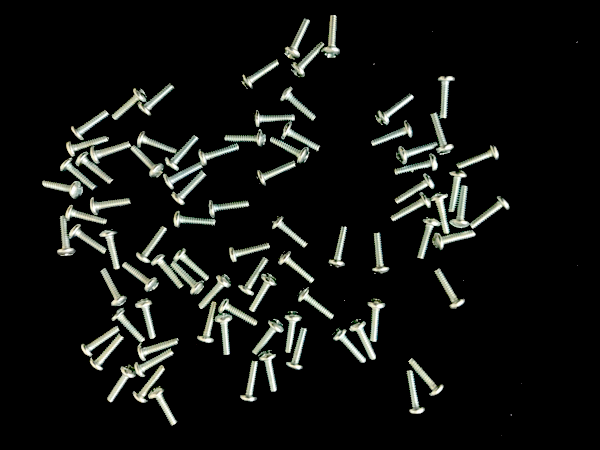shortscrew: (433, 267, 466, 311), (469, 195, 511, 229), (408, 358, 444, 397), (59, 157, 99, 191), (375, 93, 415, 127), (296, 287, 337, 320), (331, 326, 366, 364), (90, 334, 125, 372), (138, 82, 176, 117), (277, 250, 316, 284), (151, 251, 185, 290), (279, 87, 318, 121), (80, 325, 121, 357), (171, 170, 207, 206), (198, 273, 233, 310), (131, 366, 165, 404), (76, 151, 115, 184), (240, 60, 280, 92), (238, 255, 269, 296), (395, 174, 437, 204), (248, 272, 278, 314), (291, 42, 326, 78), (173, 247, 210, 281), (270, 215, 308, 248), (252, 318, 285, 356), (70, 109, 110, 140), (283, 17, 311, 61), (110, 307, 145, 342), (165, 135, 200, 170), (171, 261, 205, 297), (111, 87, 147, 121), (148, 385, 177, 427), (349, 318, 377, 361), (281, 122, 321, 152), (455, 143, 501, 169), (371, 120, 414, 147), (392, 193, 432, 222), (270, 136, 310, 165), (131, 145, 165, 179), (106, 365, 136, 403), (69, 224, 107, 254), (134, 350, 174, 378), (218, 298, 258, 326), (256, 160, 297, 187), (100, 268, 128, 307), (123, 263, 159, 293), (429, 112, 454, 155), (395, 140, 438, 165), (199, 142, 241, 167), (165, 163, 202, 191), (417, 217, 441, 260), (285, 327, 308, 371), (396, 153, 439, 176), (228, 241, 271, 264), (134, 298, 157, 340), (91, 142, 131, 166), (432, 230, 477, 251), (66, 137, 111, 158), (99, 229, 122, 270), (137, 131, 178, 154), (137, 339, 179, 361), (65, 205, 108, 226), (406, 370, 426, 415), (436, 74, 456, 119), (42, 179, 84, 200), (367, 298, 387, 342), (258, 349, 278, 393), (198, 302, 218, 345), (447, 169, 466, 214), (450, 186, 470, 228), (329, 226, 349, 268), (431, 191, 450, 235), (252, 109, 296, 128), (322, 14, 341, 58), (239, 360, 258, 403), (371, 233, 390, 274), (57, 216, 76, 257), (225, 129, 266, 148), (284, 310, 302, 353), (215, 313, 233, 356), (173, 210, 216, 228), (210, 199, 250, 218), (90, 197, 132, 215)
